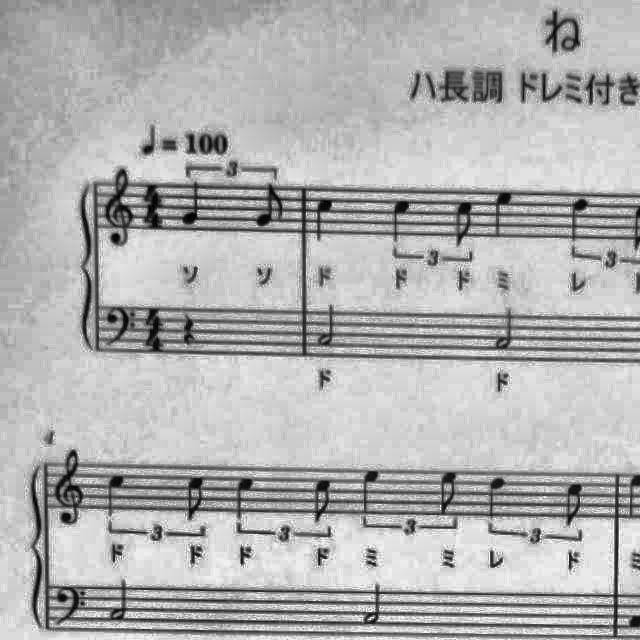Bass-clef: (51, 580, 94, 632), (103, 299, 141, 351)
Eighth-note: (253, 180, 289, 233), (450, 196, 482, 252), (306, 472, 339, 526), (433, 466, 467, 518), (180, 471, 212, 525), (559, 476, 589, 528)
Half-note: (490, 302, 526, 354), (357, 578, 387, 630), (103, 574, 133, 626), (313, 301, 342, 353)
Quarter-note: (486, 184, 520, 242), (353, 464, 387, 520), (383, 193, 417, 247), (230, 470, 262, 526), (480, 468, 512, 524), (564, 191, 596, 245), (309, 192, 339, 248), (101, 468, 131, 524), (178, 178, 206, 230)
Quarter-rest: (176, 306, 200, 349)
Treble-clef: (50, 444, 91, 530), (102, 162, 142, 250)
